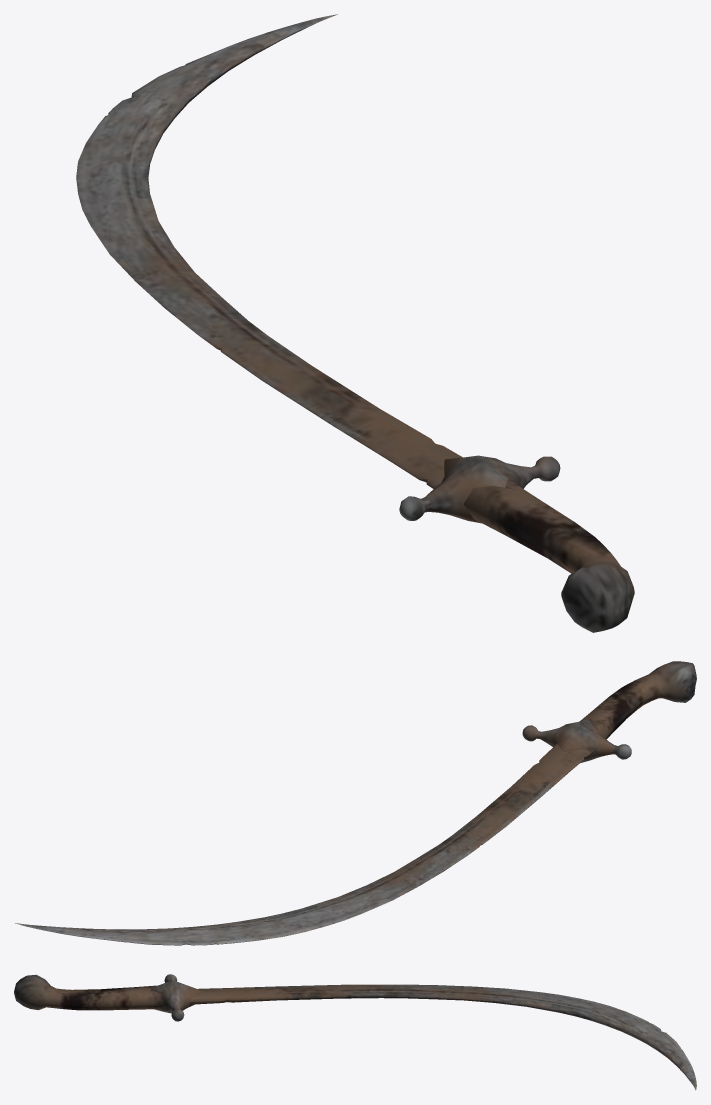
Rendered from weapon-wp_a_0409.glb.
3 renders of one model, top to bottom at view 1: azimuth 30°, elevation 25°; view 2: azimuth 150°, elevation 25°; view 3: azimuth 270°, elevation 25°, orthographic. The views are drawn at different scales.
Parts seen in each view (by area): view 1: wp_a_0409_mesh; view 2: wp_a_0409_mesh; view 3: wp_a_0409_mesh.
Boxes of the visible parts, x1=… form: wp_a_0409_mesh: x1=76, y1=14, x2=634, y2=632; wp_a_0409_mesh: x1=15, y1=661, x2=696, y2=945; wp_a_0409_mesh: x1=14, y1=974, x2=696, y2=1090.
Size of the model in its own units: 0.466 by 0.0647 by 1.19.
1 material, 1 textured.
